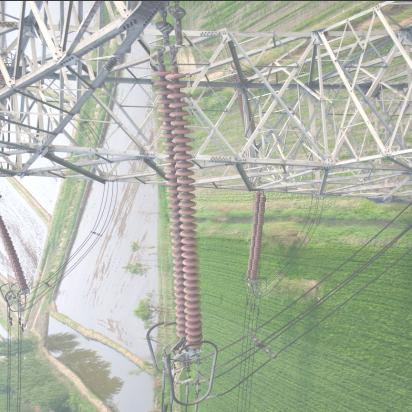insulator: (154, 45, 201, 354), (1, 197, 26, 297), (248, 191, 266, 282)
